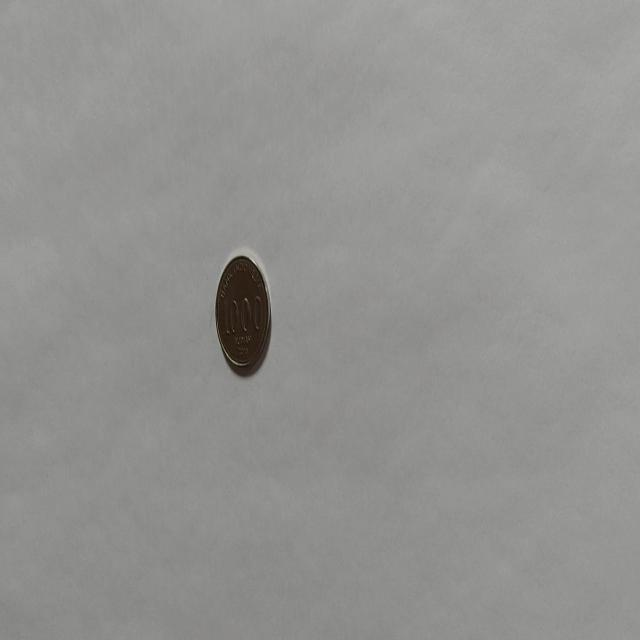seribu rupiah koin: (214, 252, 272, 374)
